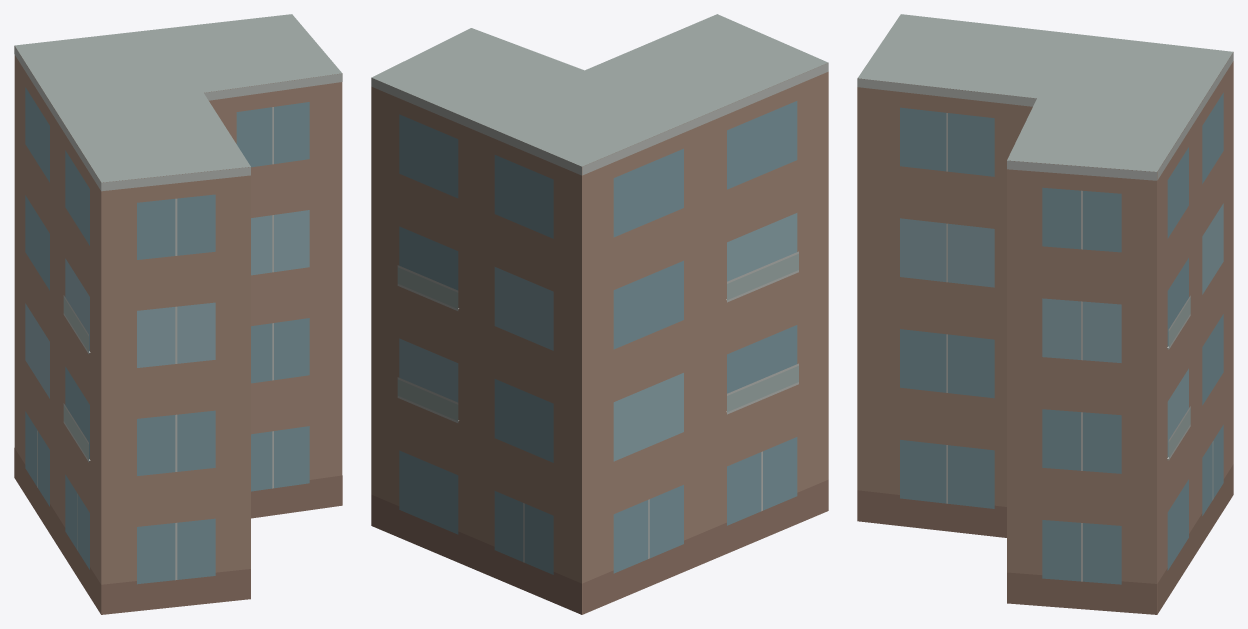
The model's file is survey-upis-32994913.glb.
3 views of the same model, side by side, from view 1: azimuth 30°, elevation 25°; view 2: azimuth 150°, elevation 25°; view 3: azimuth 270°, elevation 25° (orthographic). The views are drawn at different scales.
Visible parts, largest first — view 1: survey-upis-32994913.tmp; view 2: survey-upis-32994913.tmp; view 3: survey-upis-32994913.tmp.
Boxes of the visible parts, x1,y1,x2,y2 form: survey-upis-32994913.tmp: [14, 14, 342, 614]; survey-upis-32994913.tmp: [371, 14, 828, 614]; survey-upis-32994913.tmp: [857, 14, 1233, 614].
Bounding box in the file's own units: 9.34 × 12.2 × 9.4.
